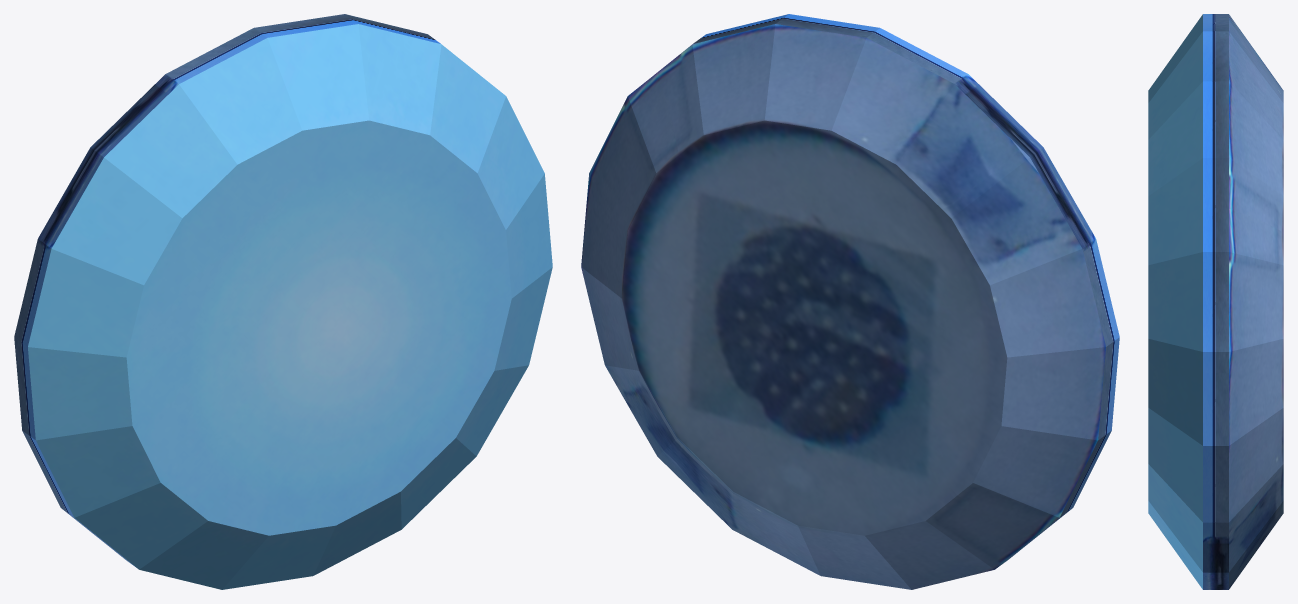
File: RTB1101220729_0337L_02_normalization.obj
3 views of the same model, side by side, from view 1: azimuth 30°, elevation 25°; view 2: azimuth 150°, elevation 25°; view 3: azimuth 270°, elevation 25° (orthographic). The views are drawn at different scales.
Visible parts, largest first — view 1: RTB1101220729_0337S_02; view 2: RTB1101220729_0337S_02; view 3: RTB1101220729_0337S_02.
Boxes of the visible parts, x1,y1,x2,y2 form: RTB1101220729_0337S_02: [14, 14, 552, 589]; RTB1101220729_0337S_02: [581, 14, 1119, 589]; RTB1101220729_0337S_02: [1148, 14, 1283, 589].
Bounding box in the file's own units: 0.6975 × 0.6975 × 0.1645.
1 material, 1 textured.
